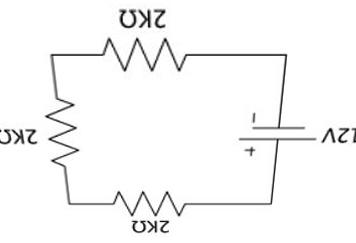resistor: (97, 33, 197, 81), (102, 181, 188, 219), (44, 89, 81, 175)
